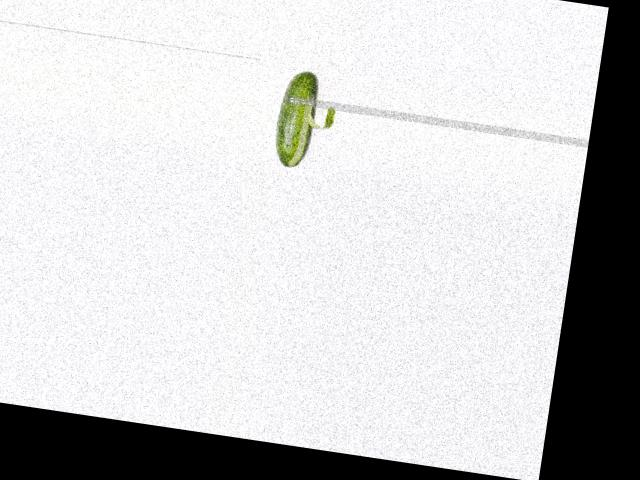cucumber: (271, 67, 322, 170)
